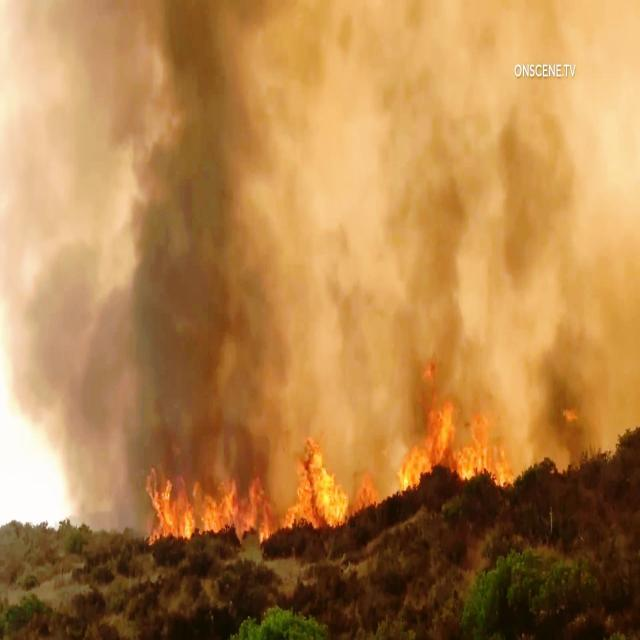Fire: (150, 440, 388, 550), (396, 375, 511, 497)
Smoke: (4, 6, 640, 401)
